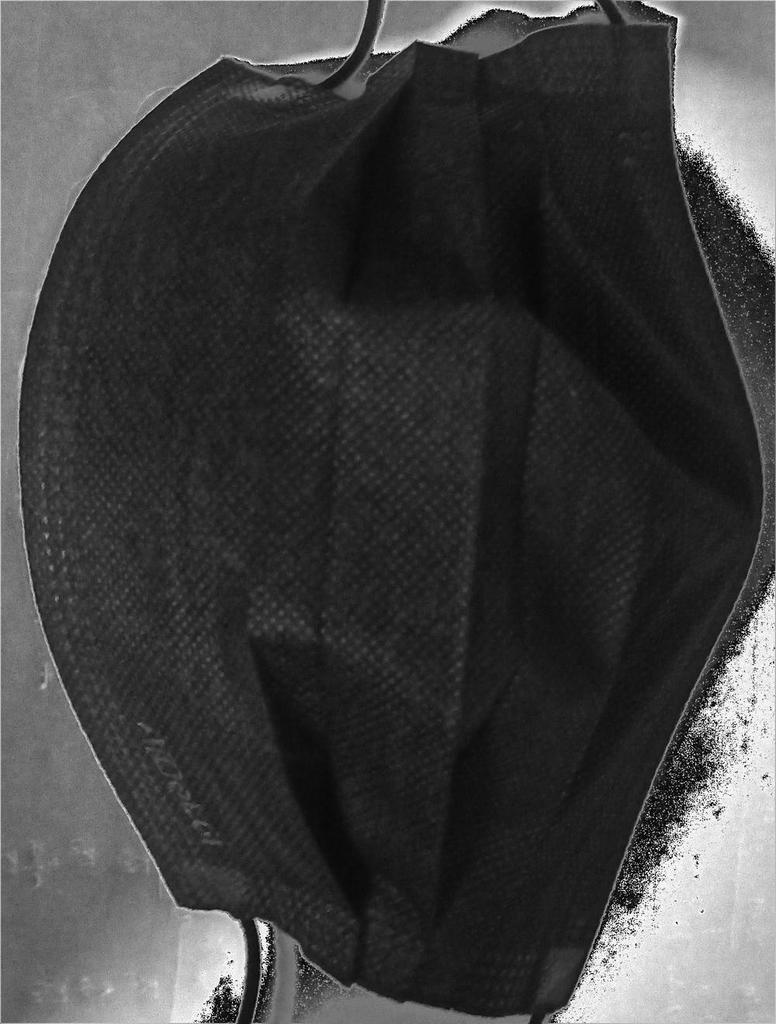Low GSM: (32, 13, 767, 1002)
